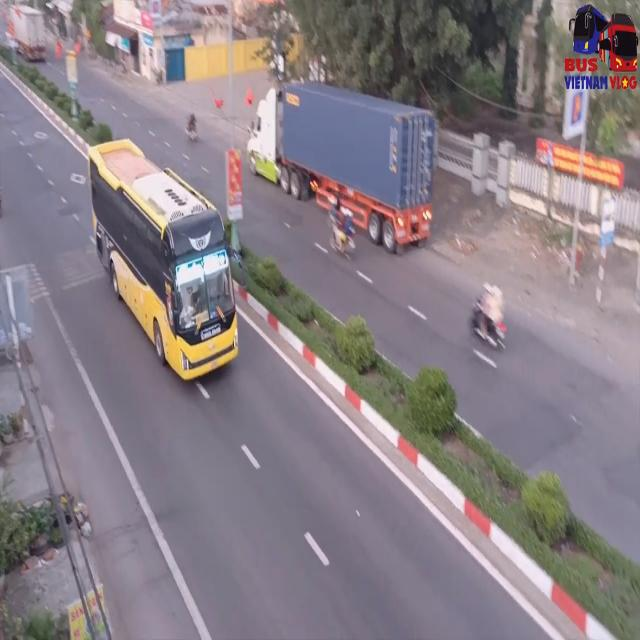bus: (85, 140, 237, 383)
motorbike: (471, 275, 508, 355), (332, 206, 353, 259)
truck: (241, 86, 435, 262)
